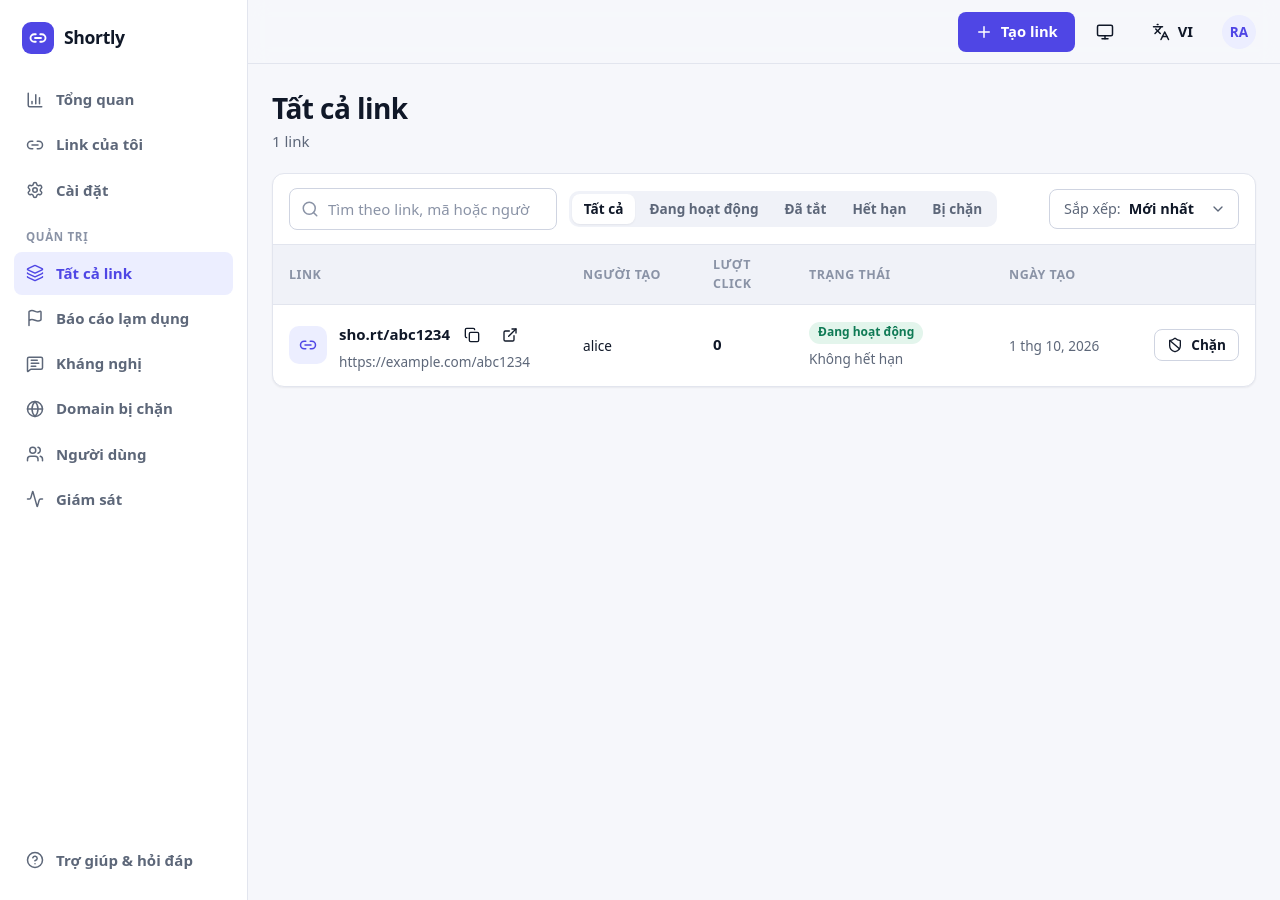
Test case: quản trị: tất cả link › chặn link: bắt buộc nhập lý do, gửi PUT block và dòng chuyển sang "Bị chặn" ngay
Check: the text "https://example.com/abc1234" is shown, box [339,350,530,372]
Click the button with aria-label "Chặn abc1234": (1197, 345) [1154,329,1239,361]
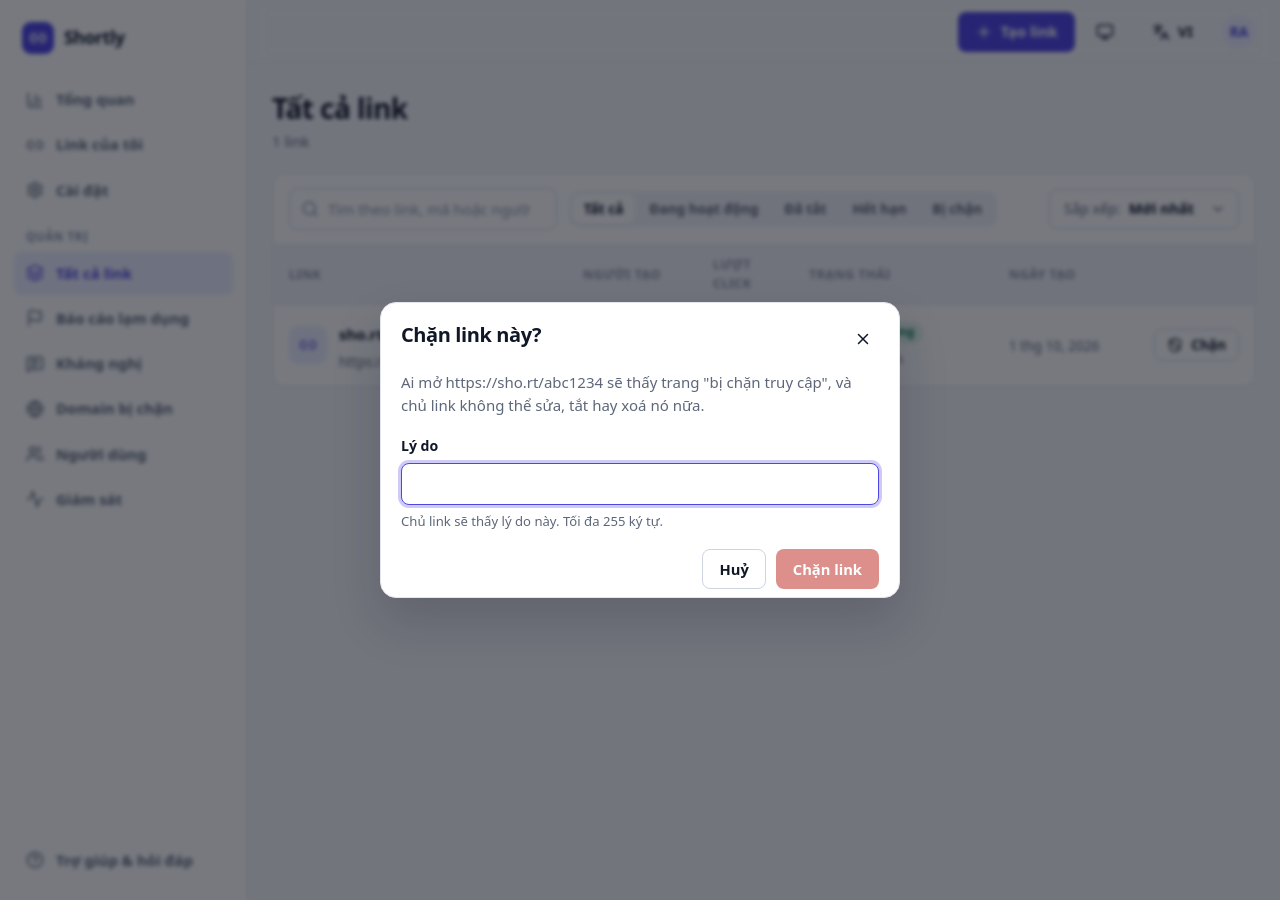
Check: the button "Chặn link" is disabled, box [776,549,879,589]
In the field labelled "Lý do": (640, 484) [401,463,879,505], type "  Lừa đảo  "
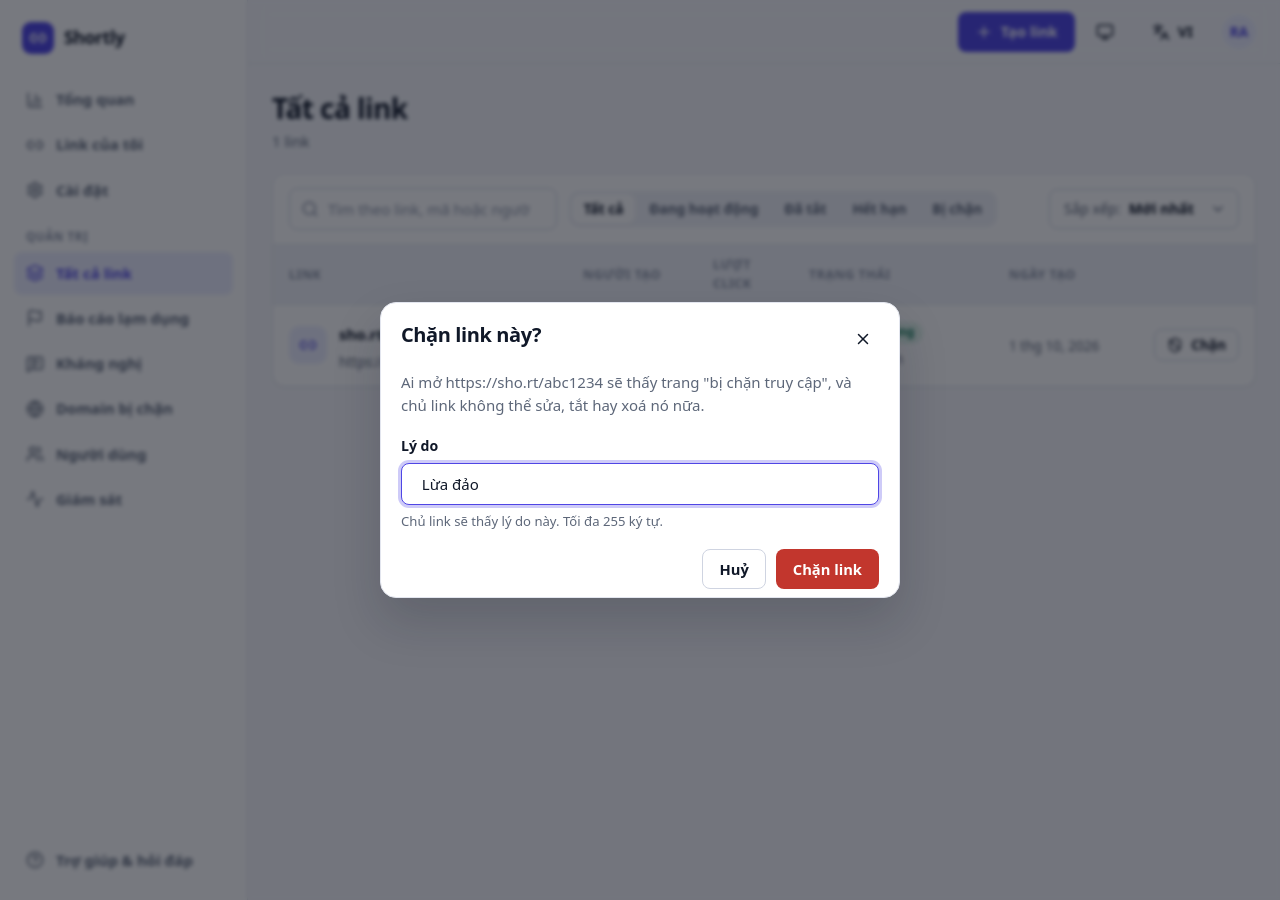
Click the button "Chặn link": (827, 569) [776,549,879,589]
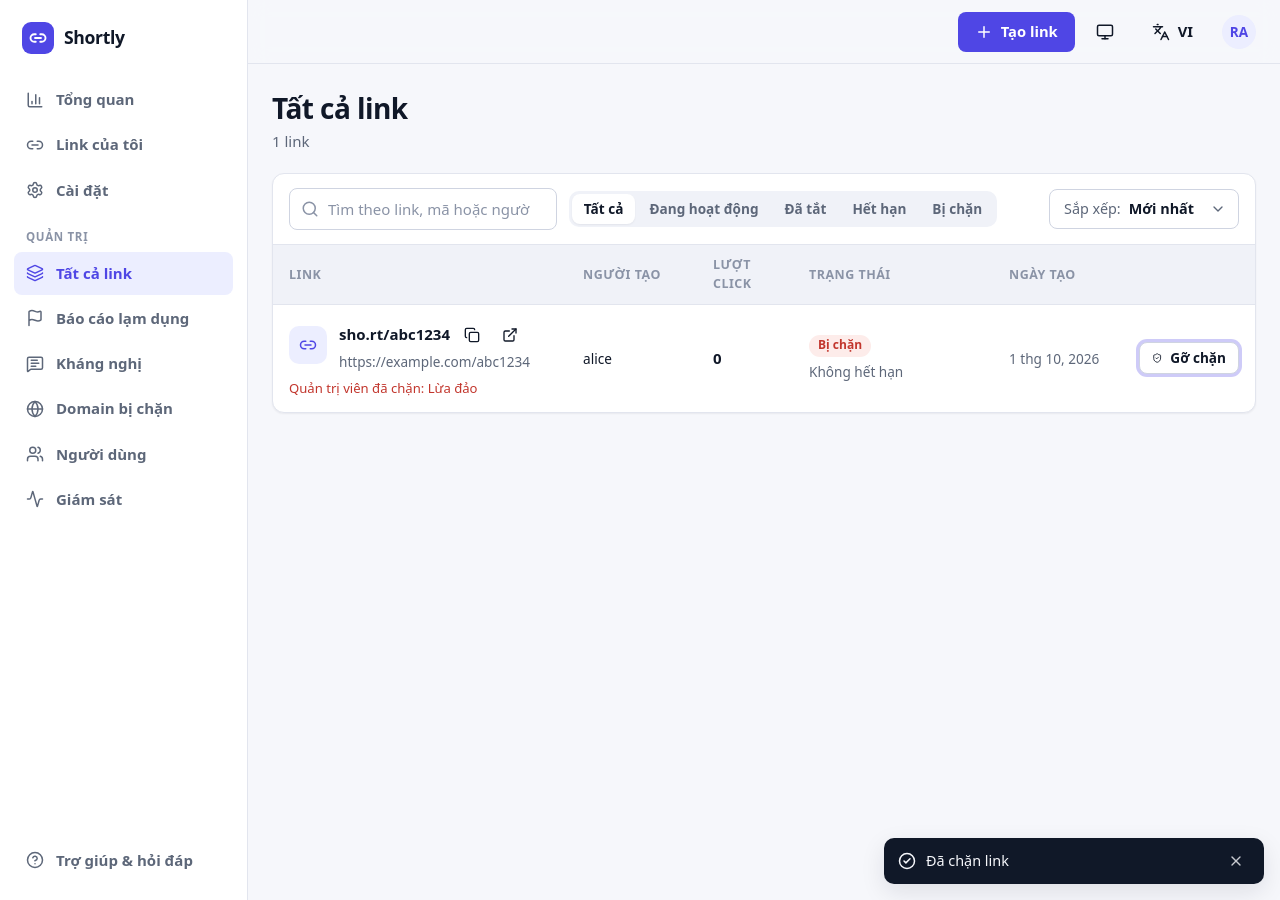
Check: the text "Quản trị viên đã chặn: Lừa đảo" is shown, box [289,379,478,397]
Check: the button with aria-label "Gỡ chặn abc1234" is shown, box [1139,342,1239,374]
Check: the text "Đã chặn link" is shown, box [926,850,1009,872]
